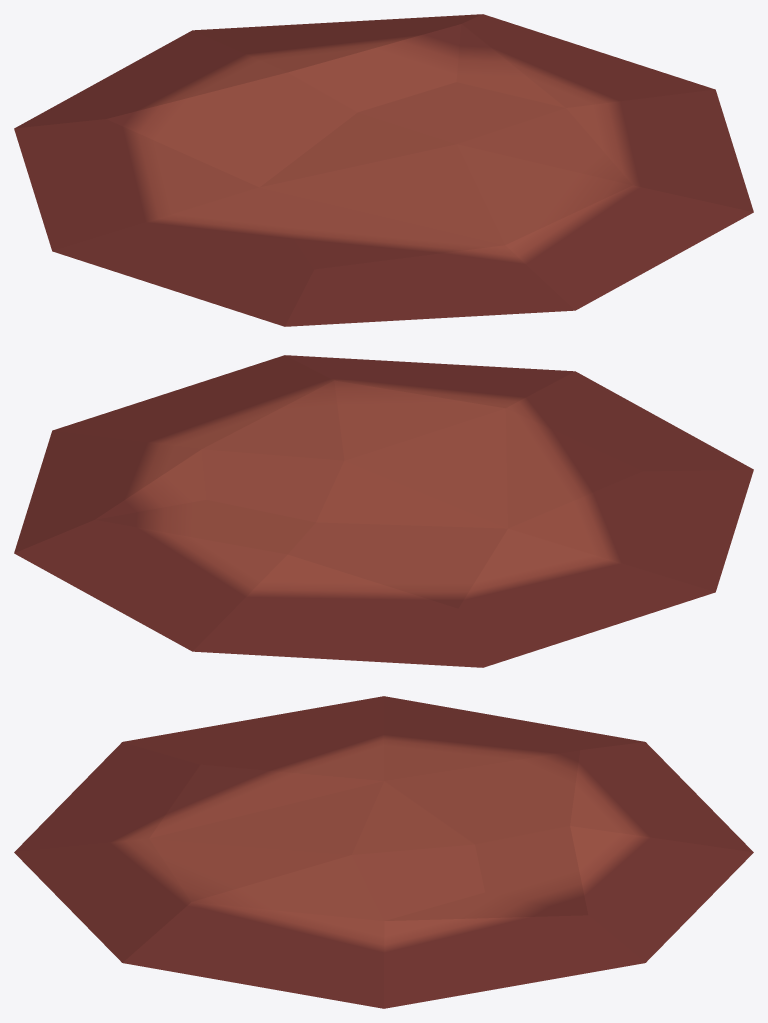
Rendered from SM_Prop_Pot_Large_Soup_02.glb.
3 views of the same model, one above another, from view 1: azimuth 30°, elevation 25°; view 2: azimuth 150°, elevation 25°; view 3: azimuth 270°, elevation 25° (orthographic). The views are drawn at different scales.
Visible parts, largest first — view 1: SM_Prop_Pot_Large_Soup_02; view 2: SM_Prop_Pot_Large_Soup_02; view 3: SM_Prop_Pot_Large_Soup_02.
Part boxes in pixels (x1,y1,x2,y2): SM_Prop_Pot_Large_Soup_02: (14,14,753,326); SM_Prop_Pot_Large_Soup_02: (14,355,753,667); SM_Prop_Pot_Large_Soup_02: (14,696,753,1008).
Size of the model in its own units: 1.19 by 0.0472 by 1.19.
1 material, 1 textured.
